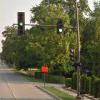Tree: (29, 2, 93, 64)
